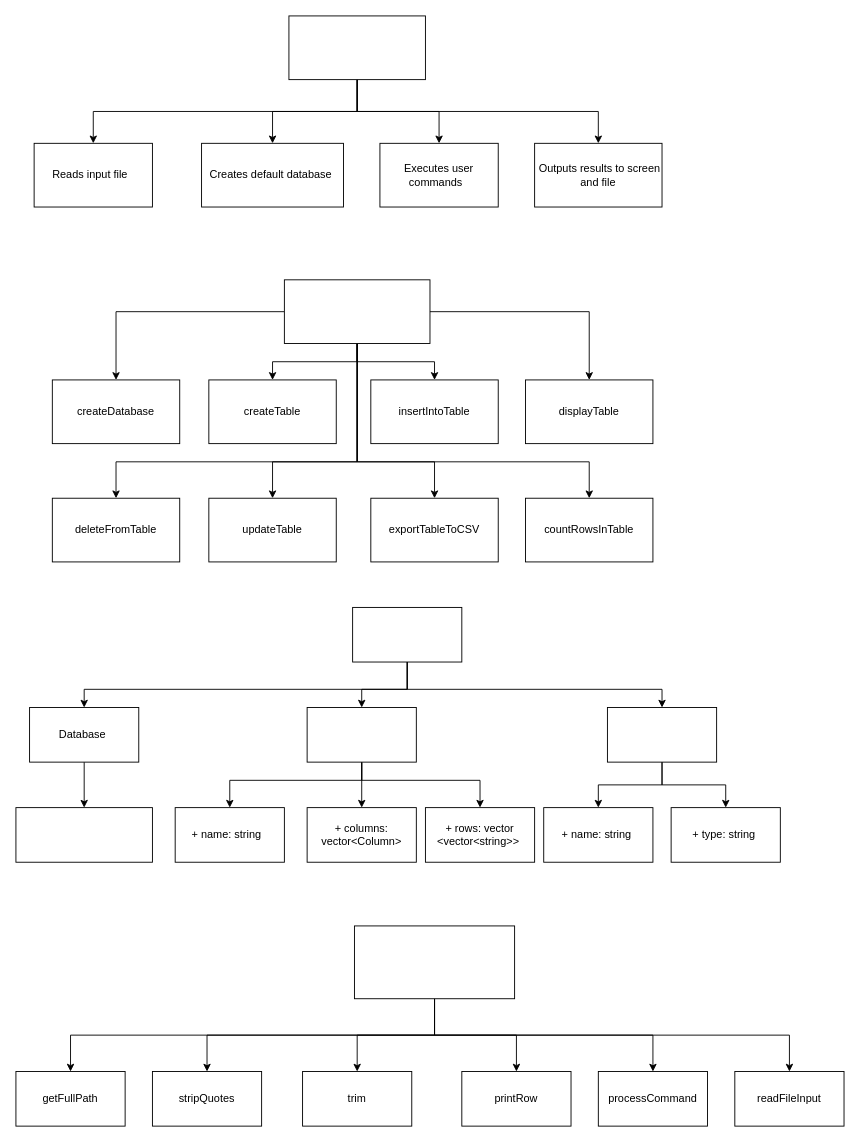
Image size: 860x1142. Some labels were removed from this diagram. The shapes that lost their labels are listed below. From the top down, each one's centre as x and y in pixels, then its label:
At pixel 356 47: "Main Program".
At pixel 356 311: "Database Operation".
At pixel 407 634: "Structure".
At pixel 361 734: "Table".
At pixel 662 734: "Column".
At pixel 83 834: "+ tables: unordered_map<string, Table>".
At pixel 434 962: "Utility Functions".
